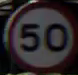Speed limit: (3, 4, 74, 65)
